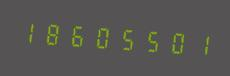eight: (41, 14, 64, 52)
five: (113, 19, 136, 57), (137, 21, 160, 59)
one: (185, 24, 208, 62), (17, 13, 40, 50)
six: (65, 16, 88, 54)
zero: (89, 18, 112, 55), (161, 23, 184, 60)
